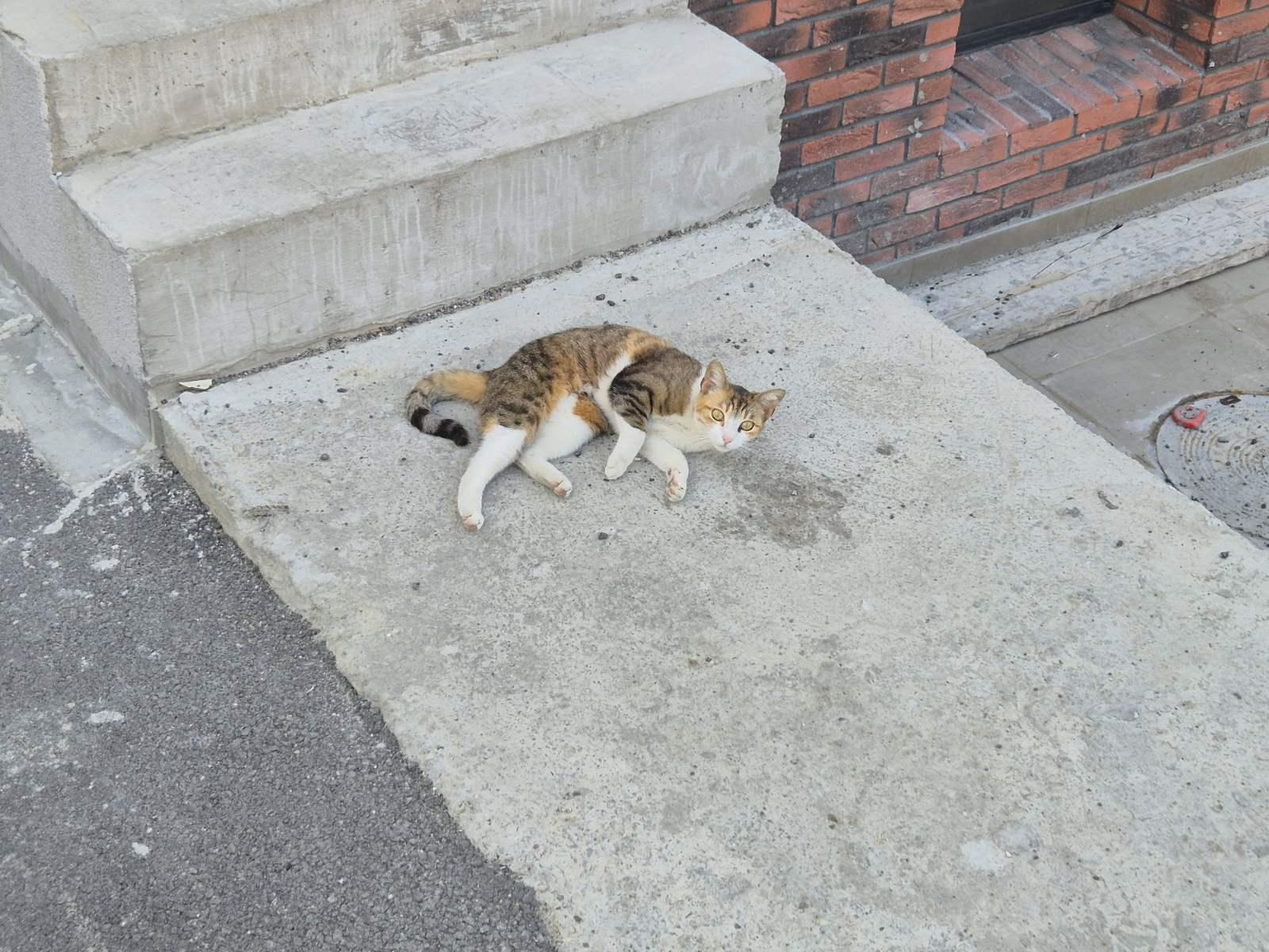macka: (403, 323, 786, 533)
